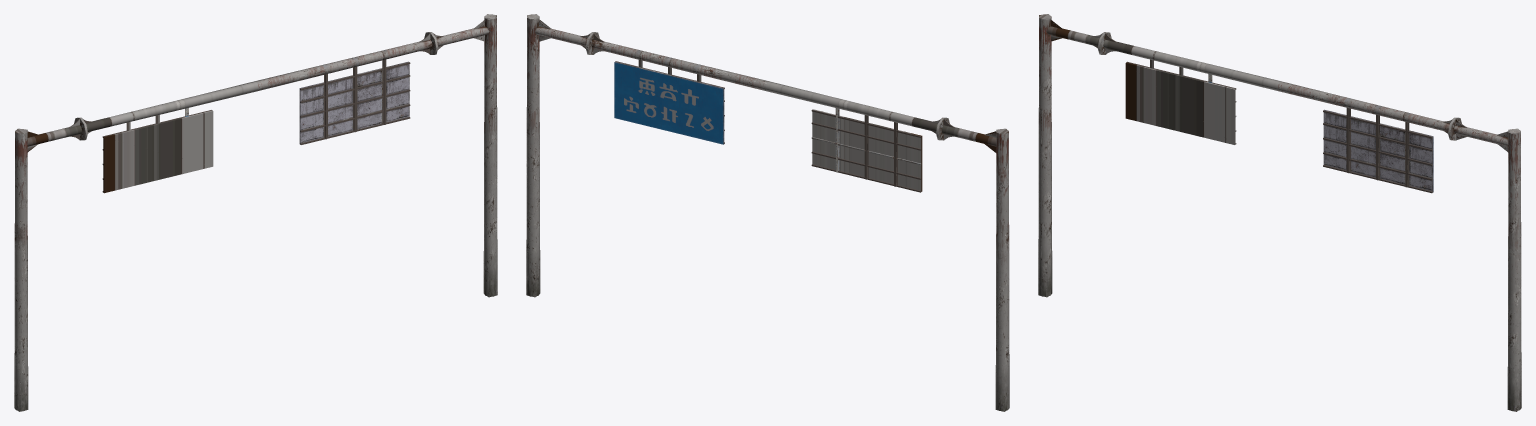
The model's file is objects_un_dlc1_t10roadsign01.gltf.
3 views of the same model, side by side, from view 1: azimuth 30°, elevation 25°; view 2: azimuth 150°, elevation 25°; view 3: azimuth 330°, elevation 25° (orthographic).
Visible parts, largest first — view 1: um_objects_un_dlc1_t10roadsign01_model_lod0Shape:objects_un_, um_objects_un_dlc1_t10roadsign01_model_lod2Shape:objects_un_, um_objects_un_dlc1_t10roadsign01_model_lod1Shape:objects_un_; view 2: um_objects_un_dlc1_t10roadsign01_model_lod0Shape:objects_un_, um_objects_un_dlc1_t10roadsign01_model_lod2Shape:objects_un_; view 3: um_objects_un_dlc1_t10roadsign01_model_lod0Shape:objects_un_, um_objects_un_dlc1_t10roadsign01_model_lod2Shape:objects_un_, um_objects_un_dlc1_t10roadsign01_model_lod1Shape:objects_un_.
Boxes of the visible parts, x1,y1,x2,y2 form: um_objects_un_dlc1_t10roadsign01_model_lod0Shape:objects_un_: [15, 14, 496, 410]; um_objects_un_dlc1_t10roadsign01_model_lod2Shape:objects_un_: [14, 14, 497, 411]; um_objects_un_dlc1_t10roadsign01_model_lod1Shape:objects_un_: [20, 33, 496, 411]; um_objects_un_dlc1_t10roadsign01_model_lod0Shape:objects_un_: [527, 14, 1008, 411]; um_objects_un_dlc1_t10roadsign01_model_lod2Shape:objects_un_: [526, 14, 1009, 411]; um_objects_un_dlc1_t10roadsign01_model_lod0Shape:objects_un_: [1039, 14, 1520, 410]; um_objects_un_dlc1_t10roadsign01_model_lod2Shape:objects_un_: [1038, 14, 1521, 411]; um_objects_un_dlc1_t10roadsign01_model_lod1Shape:objects_un_: [1039, 33, 1515, 411].
Size of the model in its own units: 17.81 by 9.82 by 0.7946.
1 material, 1 textured.
